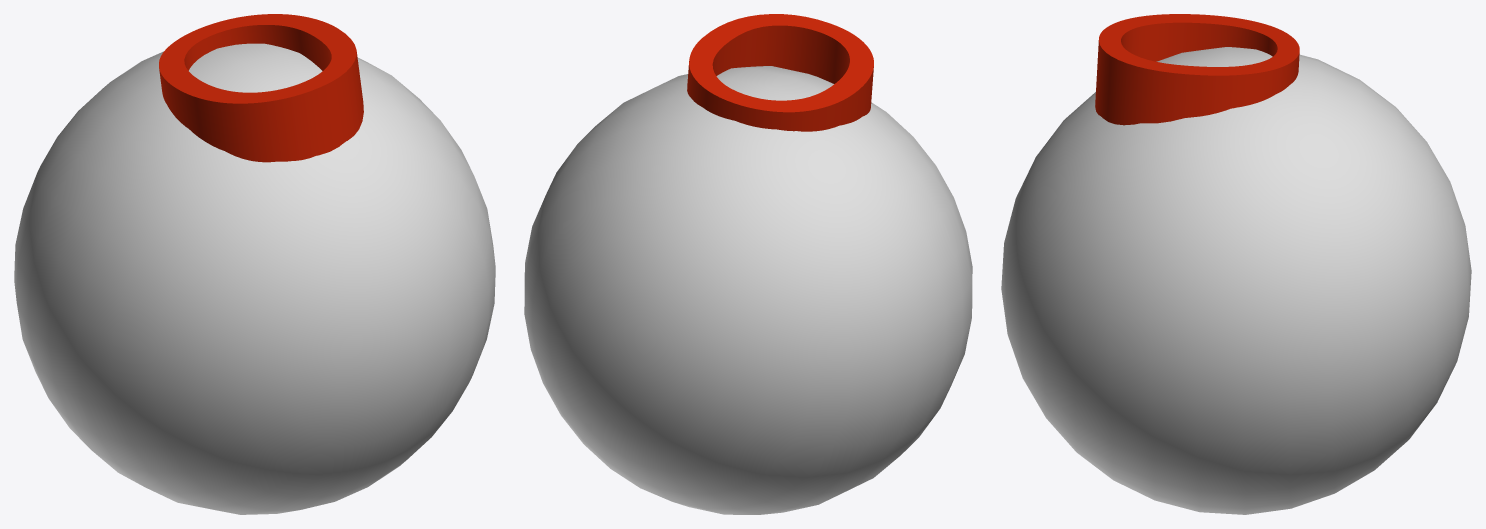
3 views of the same model, side by side, from view 1: azimuth 30°, elevation 25°; view 2: azimuth 150°, elevation 25°; view 3: azimuth 270°, elevation 25° (orthographic). The views are drawn at different scales.
Parts seen in each view (by area): view 1: O; view 2: O; view 3: O.
Part boxes in pixels (box(x1,y1,x2,y2)): O: box(14, 14, 495, 514); O: box(524, 14, 972, 514); O: box(1001, 14, 1471, 514).
Bounding box in the file's own units: 38.62 × 40.88 × 38.72.
